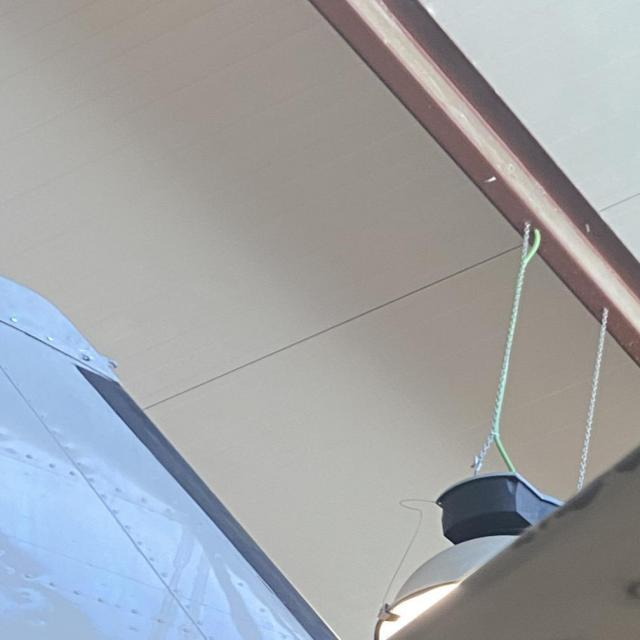Paint-off: (562, 478, 606, 509), (612, 447, 640, 473)
